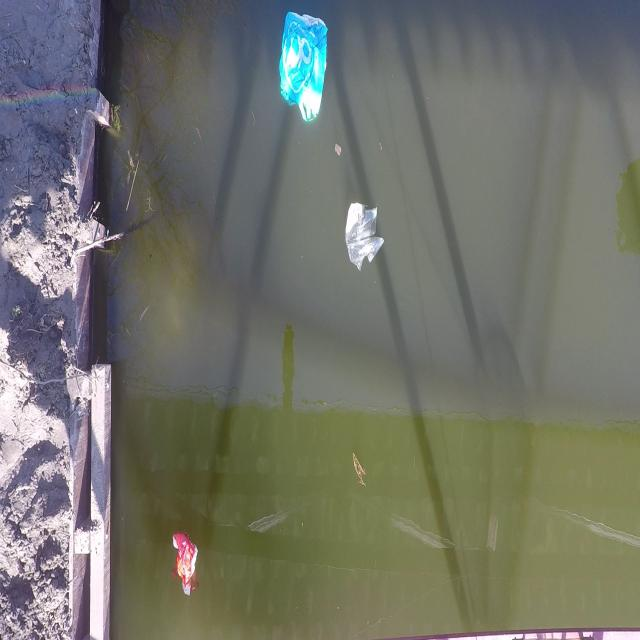Sac plastique: (276, 4, 333, 130), (340, 196, 387, 276), (170, 528, 204, 600)
